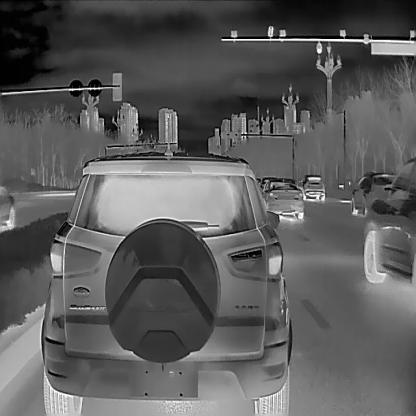car: (41, 151, 292, 414), (362, 157, 416, 283), (351, 172, 396, 216), (260, 177, 304, 219), (0, 187, 16, 231), (302, 174, 325, 201)
